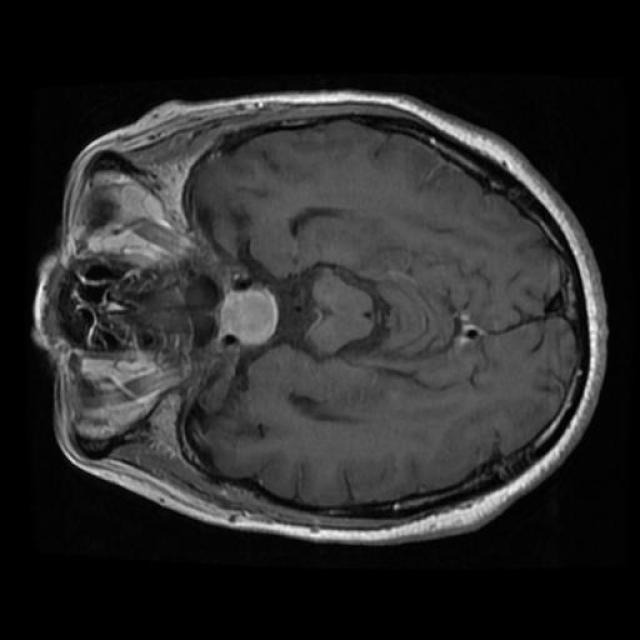Pituitary: (216, 271, 278, 346)
